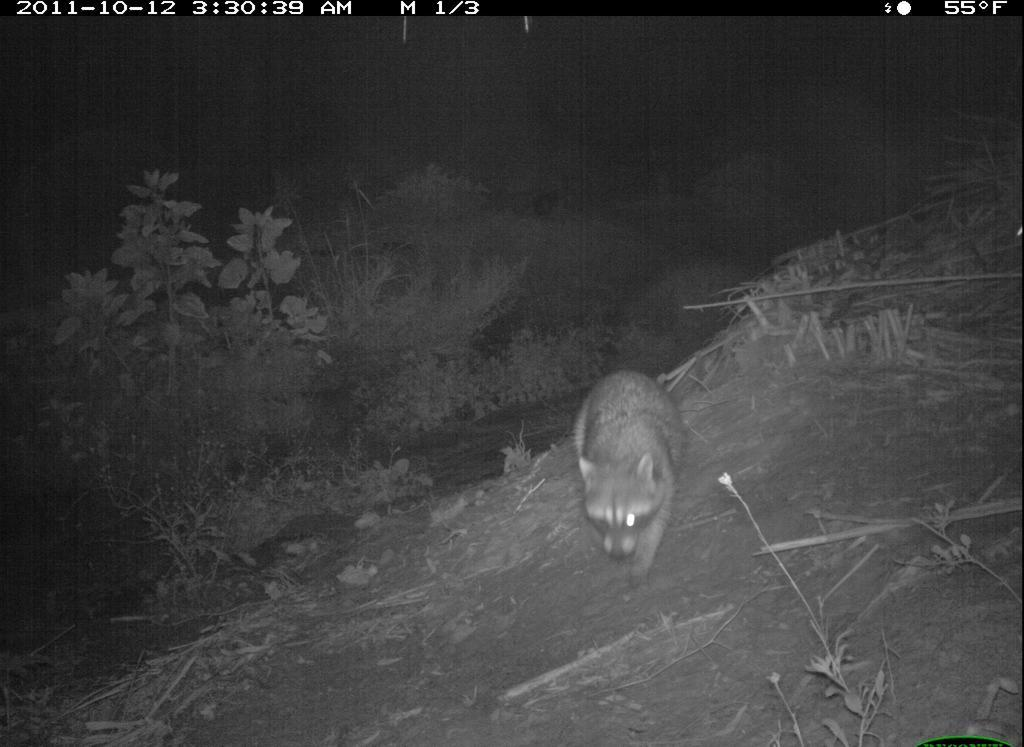raccoon: (541, 361, 708, 610)
